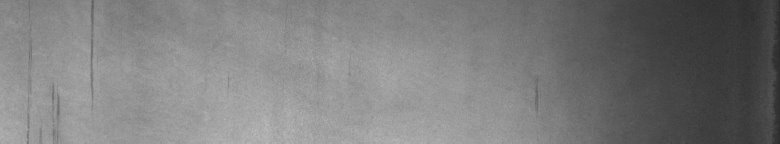ka: (26, 4, 96, 136)
